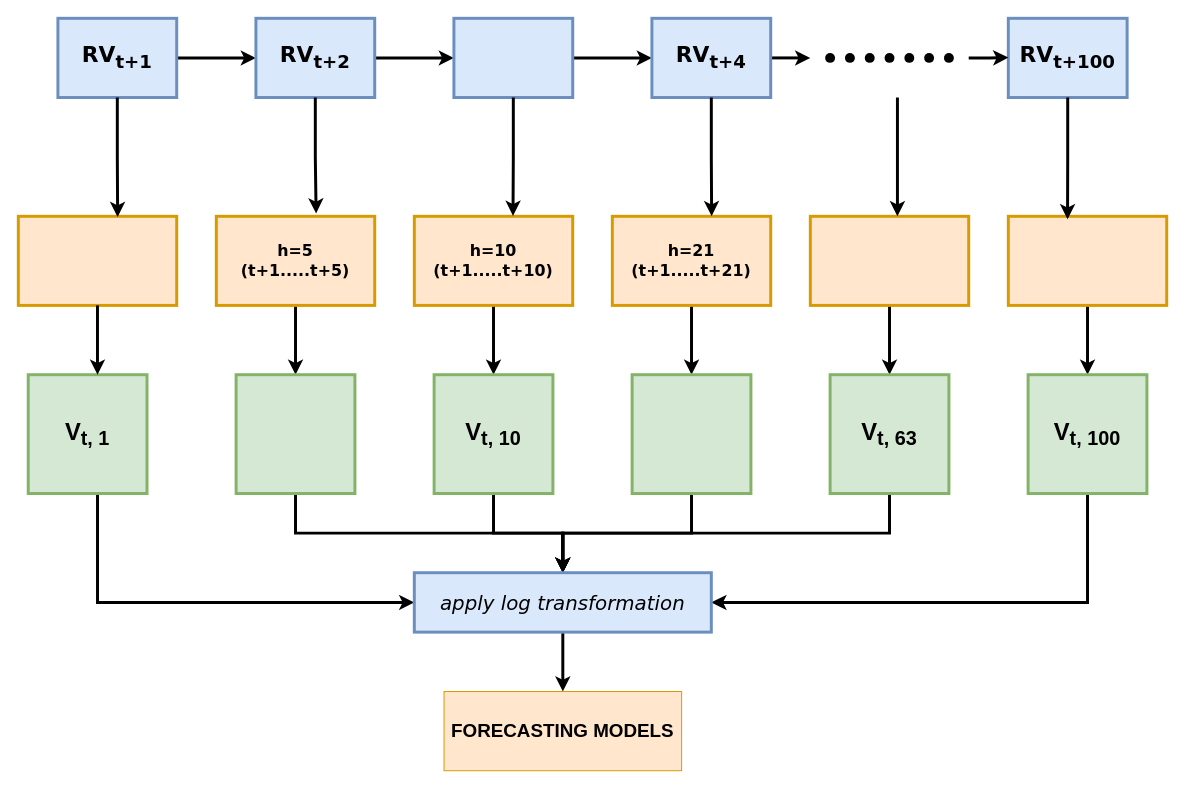
This 1185x788 diagram has some shape labels left out. The box of each missing label's shape, as (x1, y1, x2, y2) in pixels:
h=1 (t+1): (16, 214, 178, 306)
h=100 (t+1.....t+100): (1006, 214, 1168, 306)
h=63 (t+1.....t+63): (808, 214, 970, 306)
RV t+3: (452, 16, 574, 99)
V t, 21: (630, 373, 752, 495)
V t, 5: (234, 373, 356, 495)
